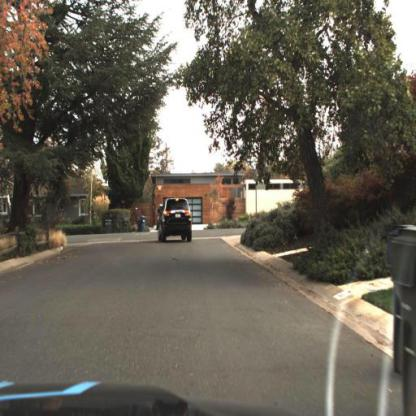car: (159, 194, 193, 247)
